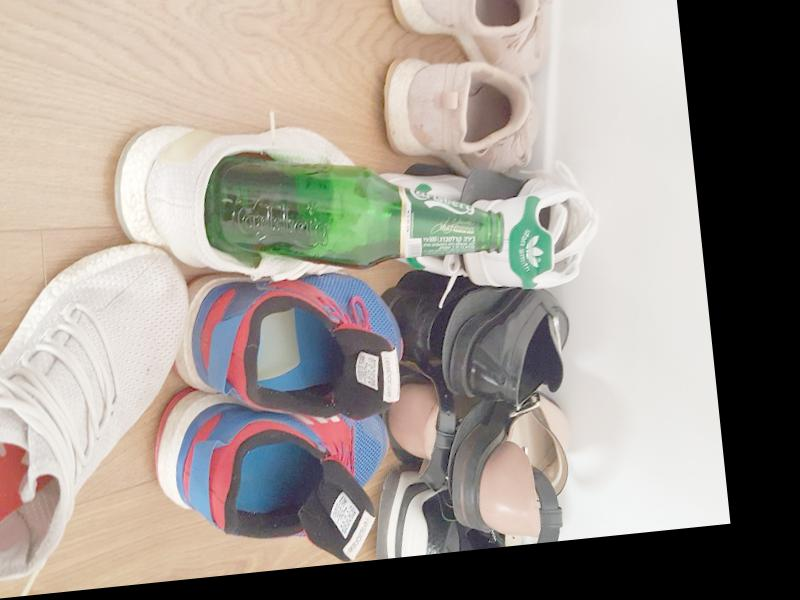Beer: (199, 130, 504, 285)
